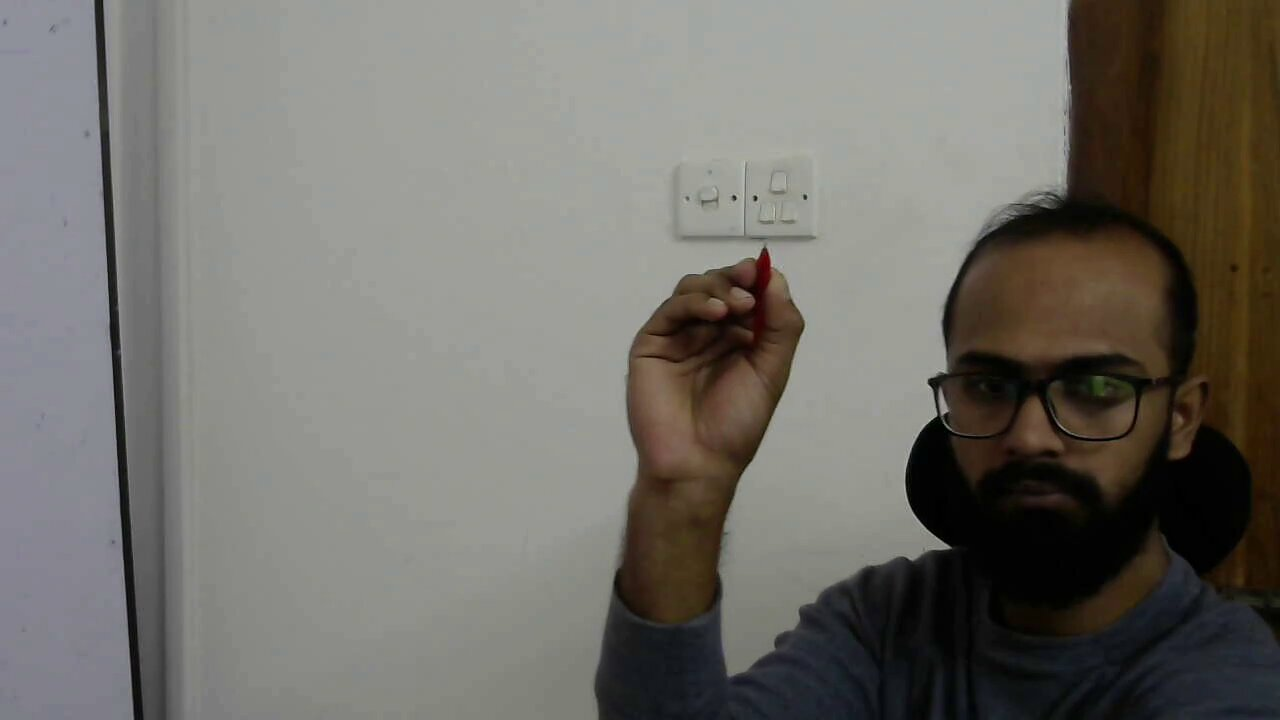pointer: (613, 243, 819, 384)
